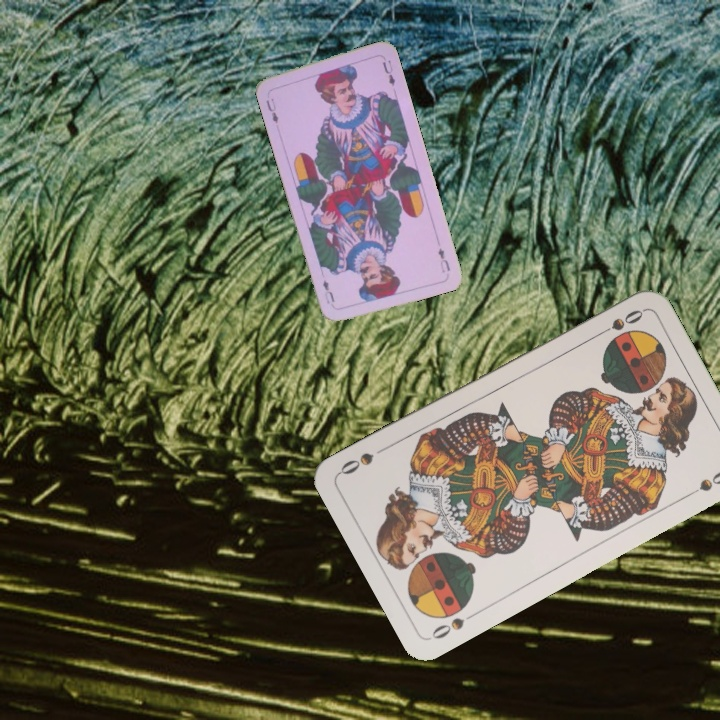EU: (262, 94, 281, 126), (434, 244, 453, 275)
SO: (591, 305, 646, 340), (427, 607, 481, 642)
